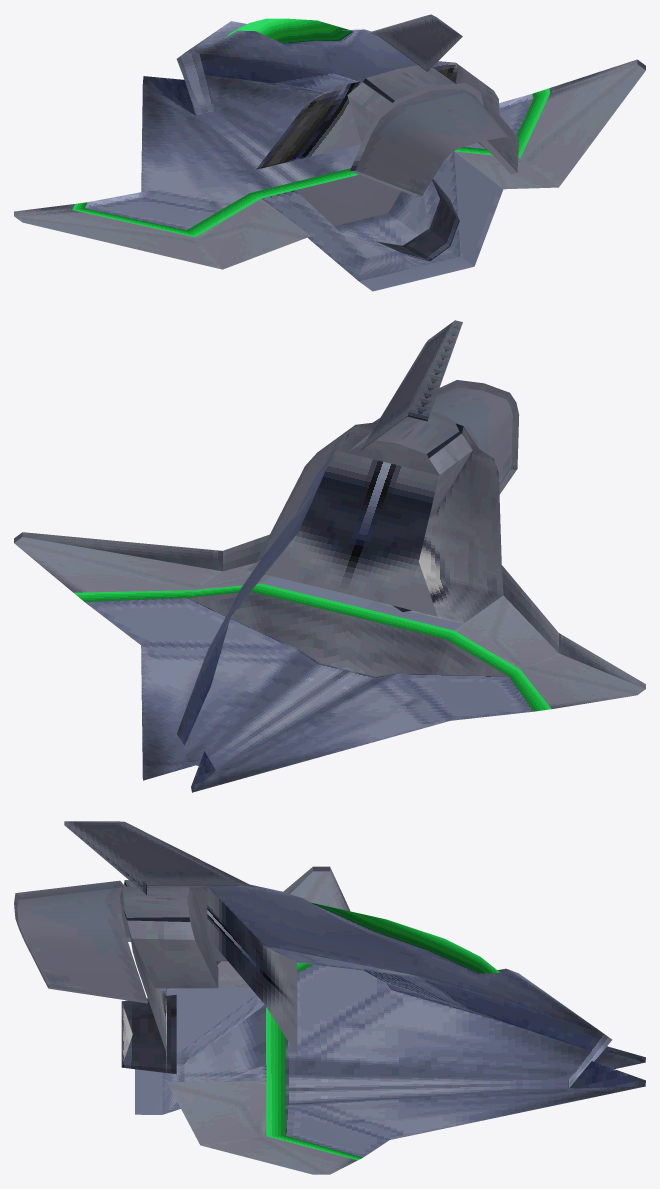
The model's file is ps2_save-icons_xyanide.glb.
The picture shows the model from 3 angles, top to bottom: view 1: azimuth 30°, elevation 25°; view 2: azimuth 150°, elevation 25°; view 3: azimuth 270°, elevation 25°; orthographic projection.
Parts seen in each view (by area): view 1: view.ico; view 2: view.ico; view 3: view.ico.
Boxes of the visible parts, x1=… form: view.ico: x1=14, y1=14, x2=645, y2=291; view.ico: x1=14, y1=320, x2=645, y2=792; view.ico: x1=14, y1=821, x2=645, y2=1174.
Size of the model in its own units: 4.98 by 2.04 by 4.39.
Materials: 1 (1 with a texture image).
